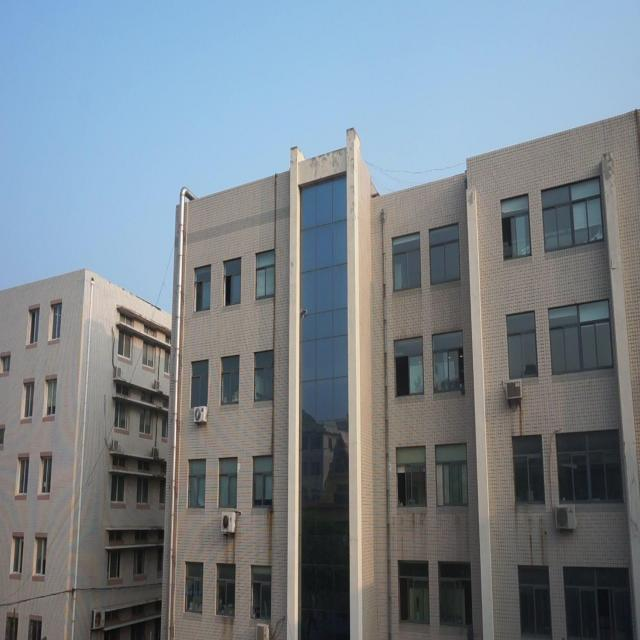UAV: (300, 309, 307, 319)
